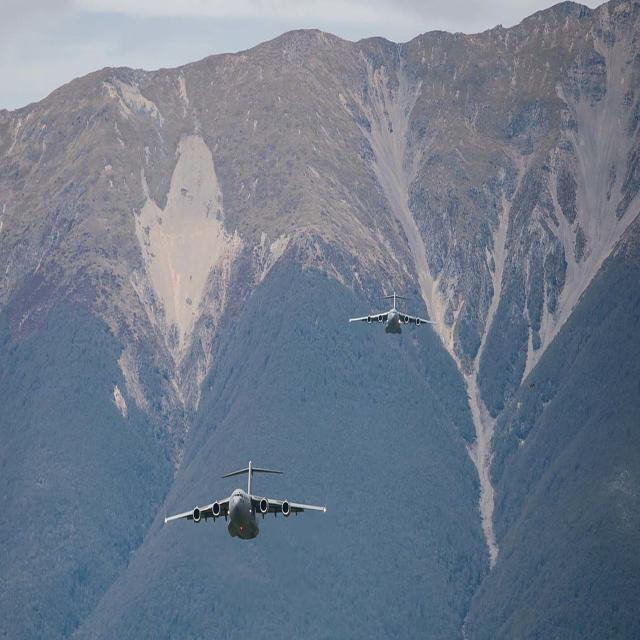MIL_Plane: (163, 76, 327, 156), (348, 293, 438, 332)
